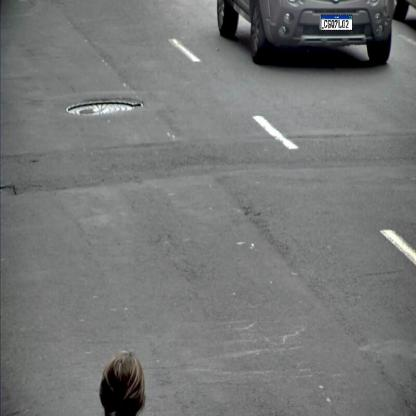PlacaM: (321, 14, 352, 30)
